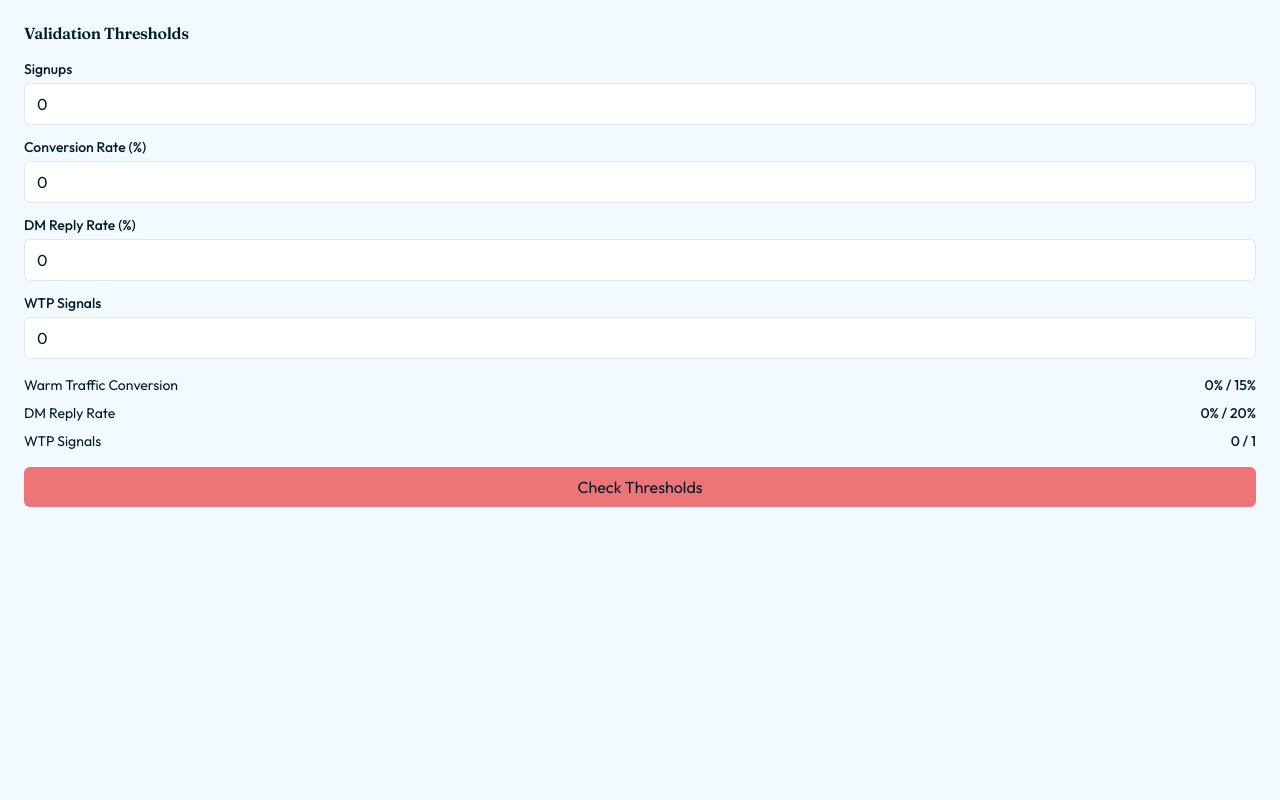
it: ValidationThresholds › displays error message when update fails
Replace the text in the number field labelled "Signups" with "10" at (640, 104), box [24,83,1256,125]
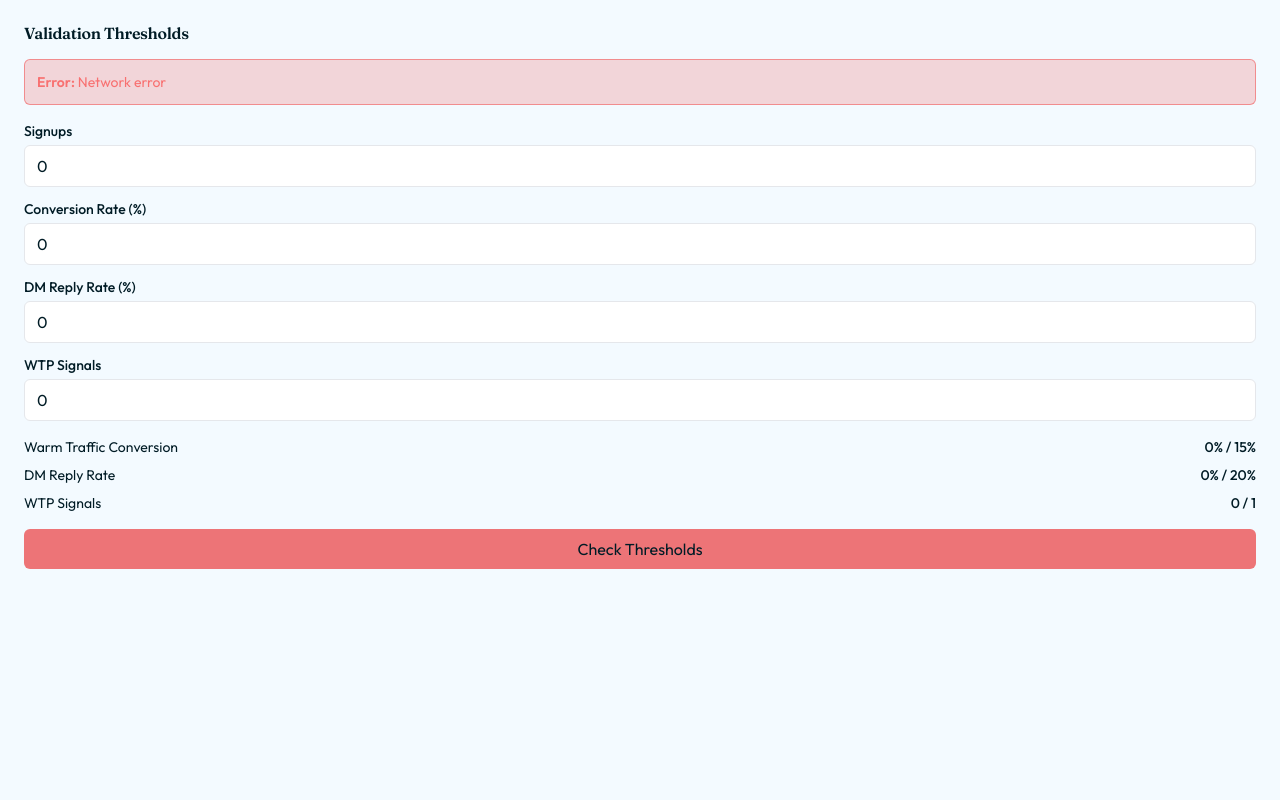
Result: the message "Error: Network error" is shown at [24,59,1256,105]
